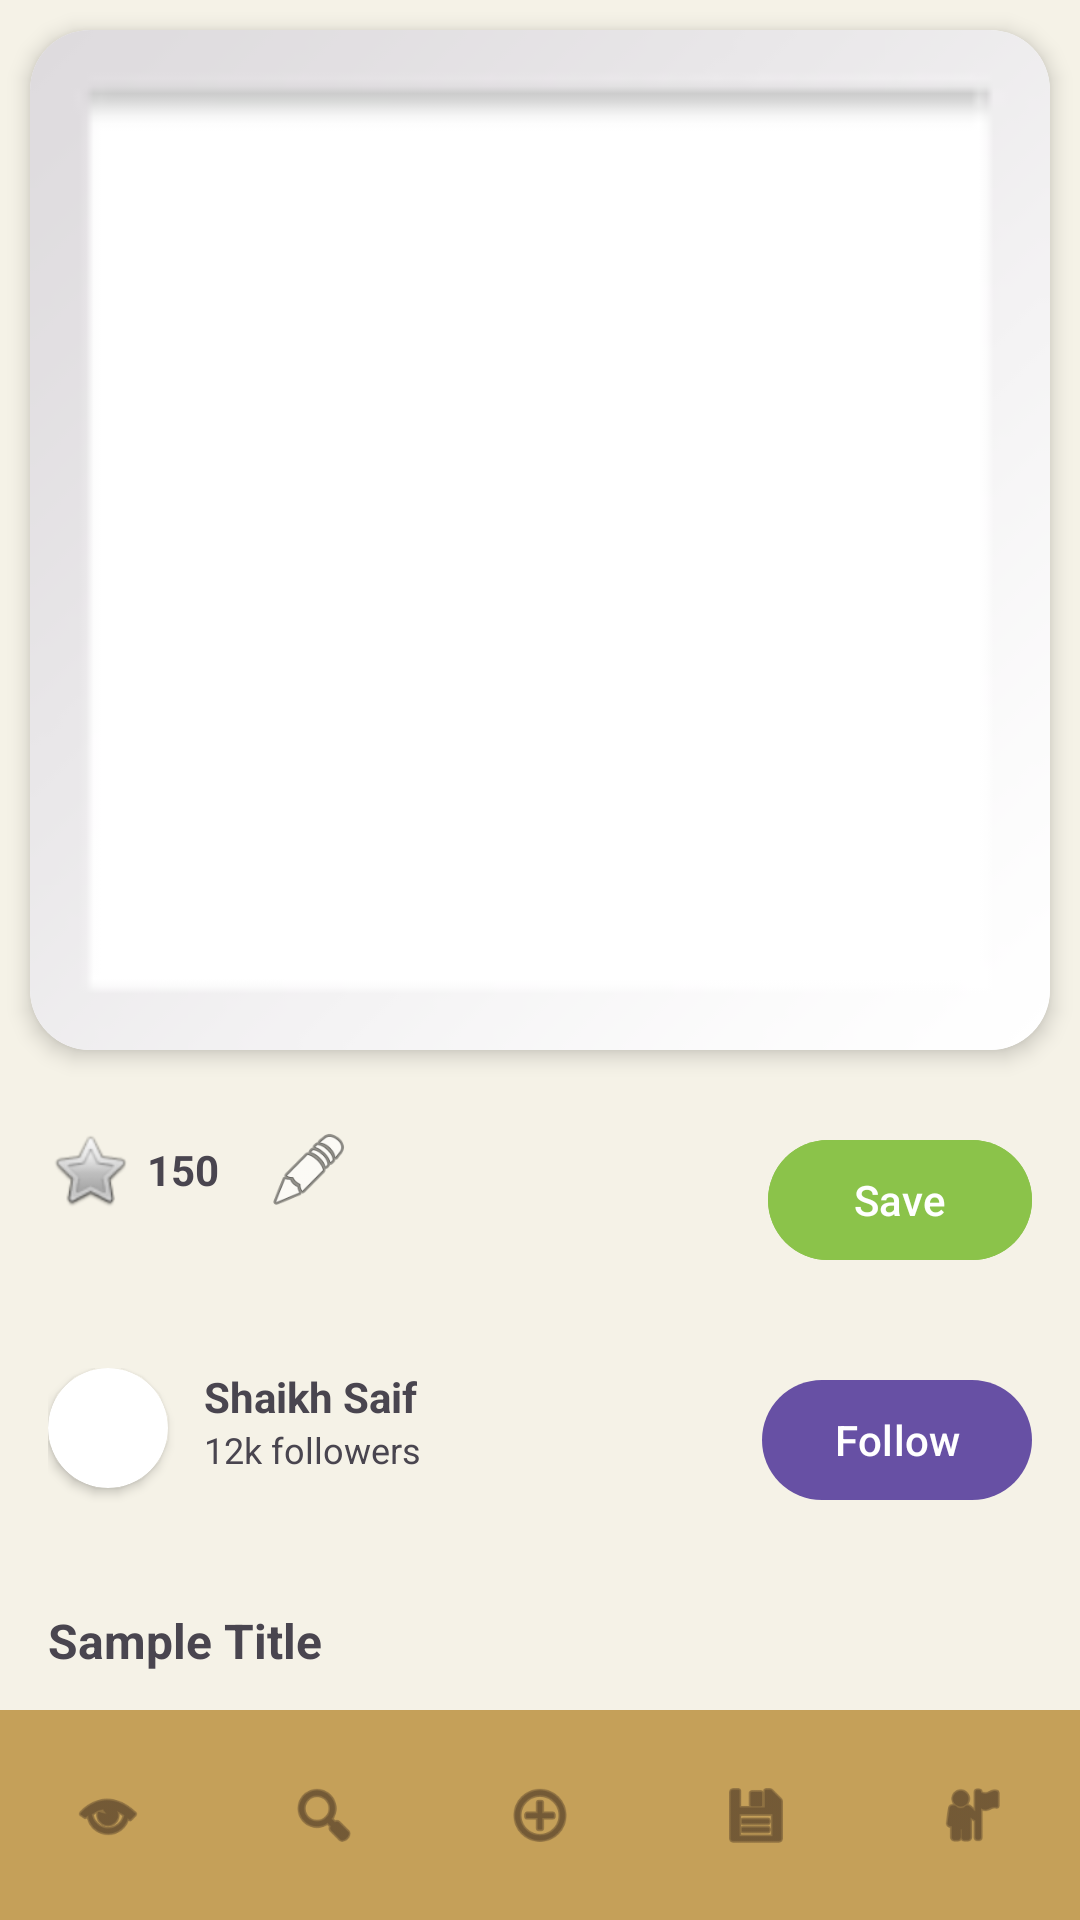

Named icons in this screenshot (1080*1920) and their bounding boxes, rect(x1, y1, x2, y2):
edit: rect(273, 1134, 344, 1205)
star off: rect(56, 1137, 126, 1205)
